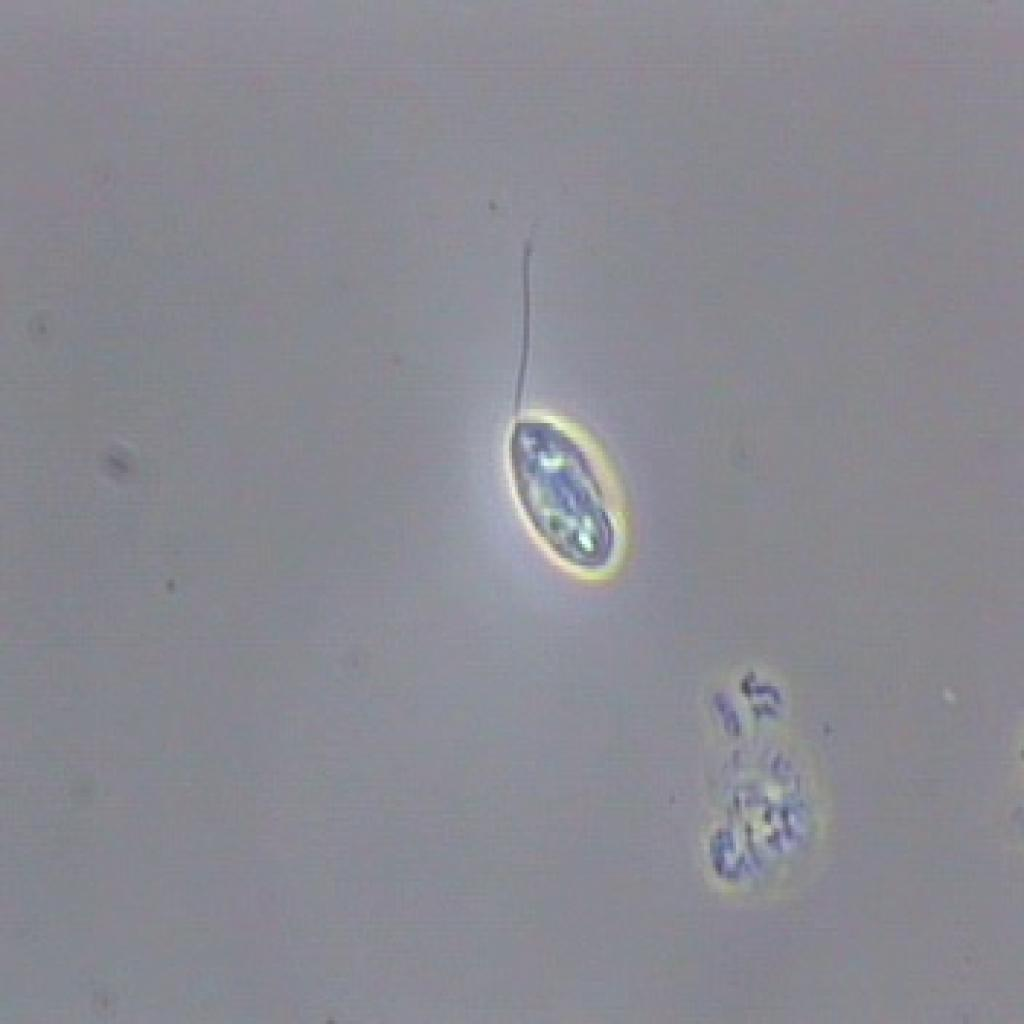Flagellates: (472, 226, 638, 602)
